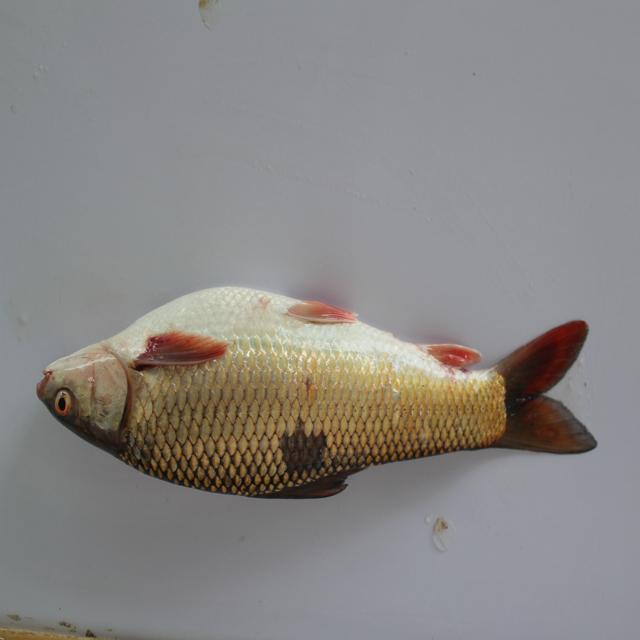Mori: (36, 272, 607, 511)
